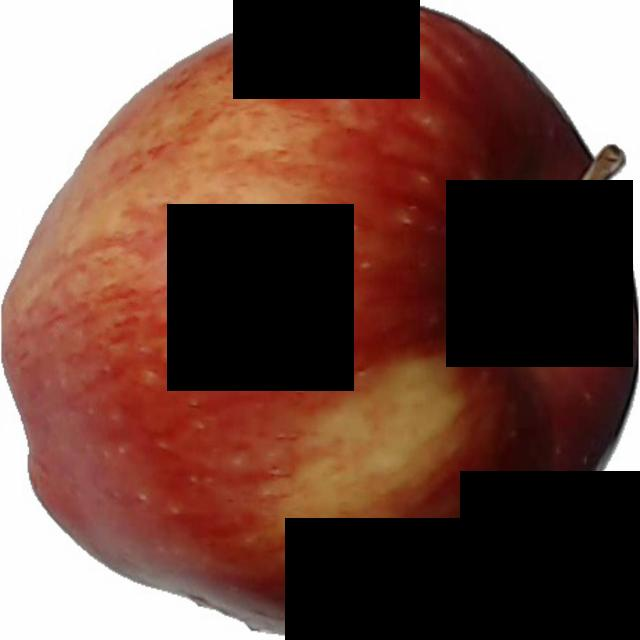apple: (7, 0, 638, 637)
